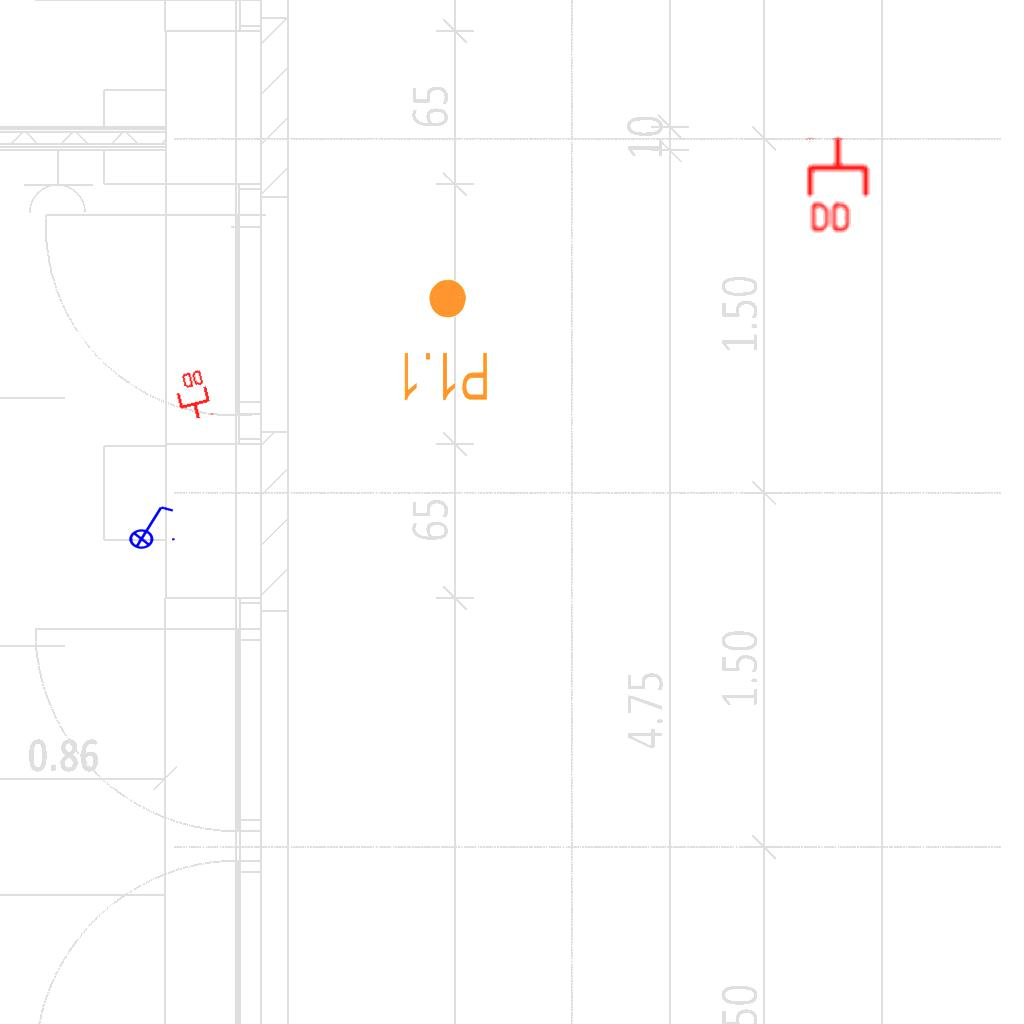Ausschalter_beleuchtet: (122, 502, 178, 550)
Datenanschluss_zweifach: (805, 134, 874, 237), (169, 366, 215, 425)
Downlight_LED_Einbauleuchten_Flur: (398, 276, 491, 404)
